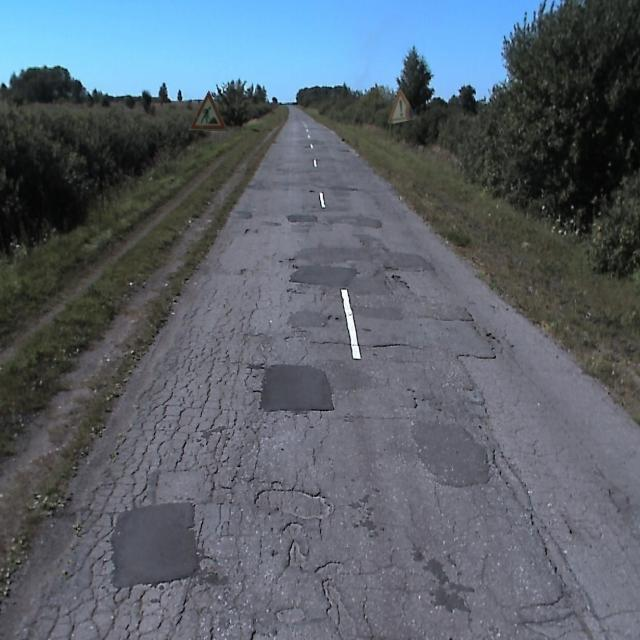road: (21, 109, 639, 639)
